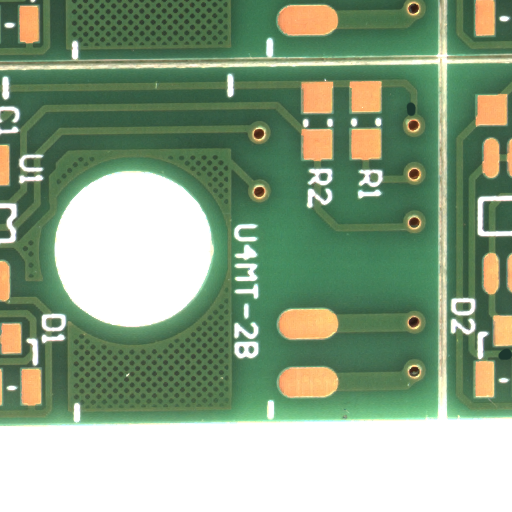Mouse_bite: (410, 109, 418, 124), (504, 353, 512, 366)
